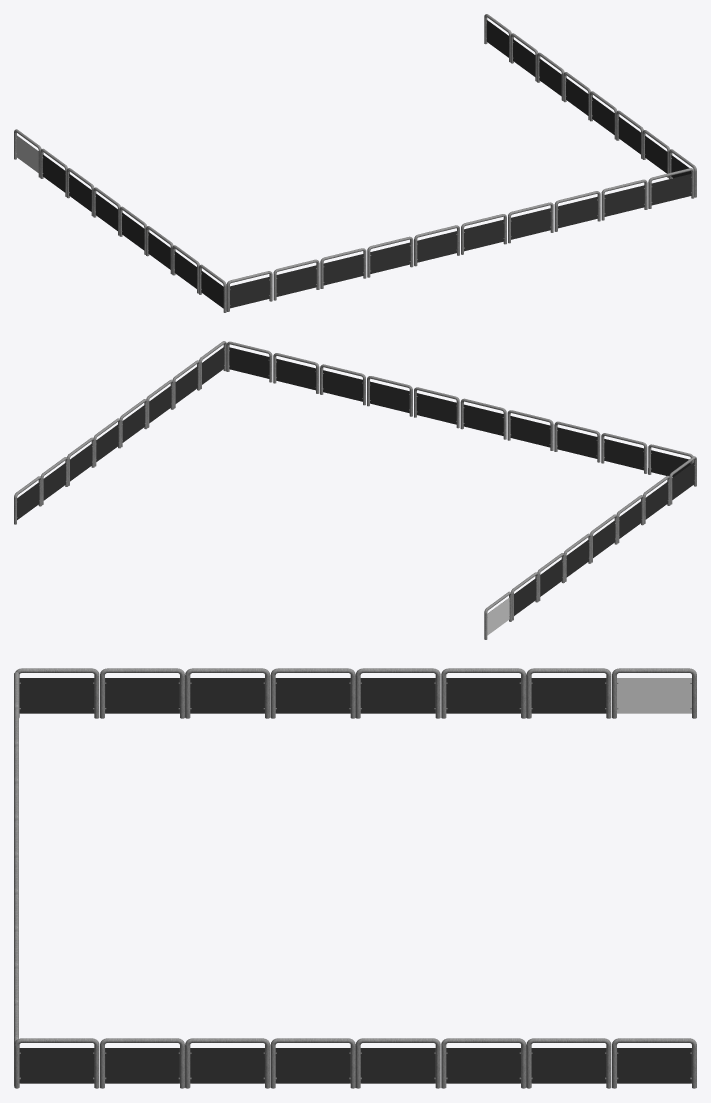
The model's file is finalrailings1.fbx.
3 views of the same model, one above another, from view 1: azimuth 30°, elevation 25°; view 2: azimuth 150°, elevation 25°; view 3: azimuth 270°, elevation 25° (orthographic). The views are drawn at different scales.
Parts seen in each view (by area): view 1: railing18, railing25, railing17, railing19, railing24, railing16, railing23, railing21, railing22, railing20, railing7, railing2 (+14 smaller); view 2: railing19, railing18, railing21, railing24, railing17, railing25, railing20, railing23, railing22, railing16, railing15, railing (+14 smaller); view 3: railing8, railing14, railing11, railing12, railing1, railing2, railing3, railing4, railing5, railing13, railing10, railing6 (+4 smaller).
Boxes of the visible parts, x1,y1,x2,y2 form: railing18: (320,248,366,288); railing25: (601,179,647,220); railing17: (273,259,319,300); railing19: (367,236,413,277); railing24: (648,168,694,208); railing16: (226,271,272,311); railing23: (554,191,600,231); railing21: (414,225,459,266); railing22: (508,202,553,243); railing20: (461,214,506,254); railing7: (199,264,226,312); railing2: (66,168,94,216); railing19: (507,410,553,450); railing18: (554,421,600,462); railing21: (460,398,506,439); railing24: (226,341,272,382); railing17: (601,433,647,473); railing25: (273,353,319,393); railing20: (414,387,459,428); railing23: (320,364,365,405); railing22: (367,376,412,416); railing16: (648,444,693,485); railing15: (14,476,41,524); railing: (484,591,511,639); railing8: (14,1038,99,1088); railing14: (526,1038,611,1088); railing11: (270,1038,355,1088); railing12: (355,1038,440,1088); railing1: (526,668,611,718); railing2: (441,668,526,718); railing3: (355,668,440,718); railing4: (270,668,355,718); railing5: (185,668,270,718); railing13: (441,1038,526,1088); railing10: (185,1038,270,1088); railing6: (100,668,184,718).
Size of the model in its own units: 1734 by 108 by 1342.
2 materials, 1 textured.
